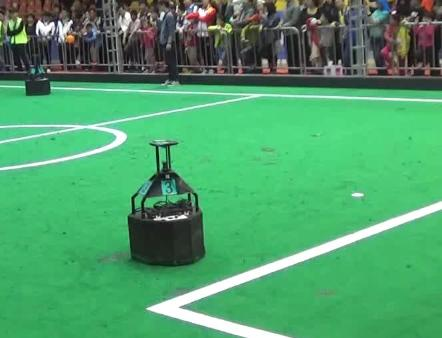robot: (123, 134, 216, 268), (18, 50, 56, 98)
